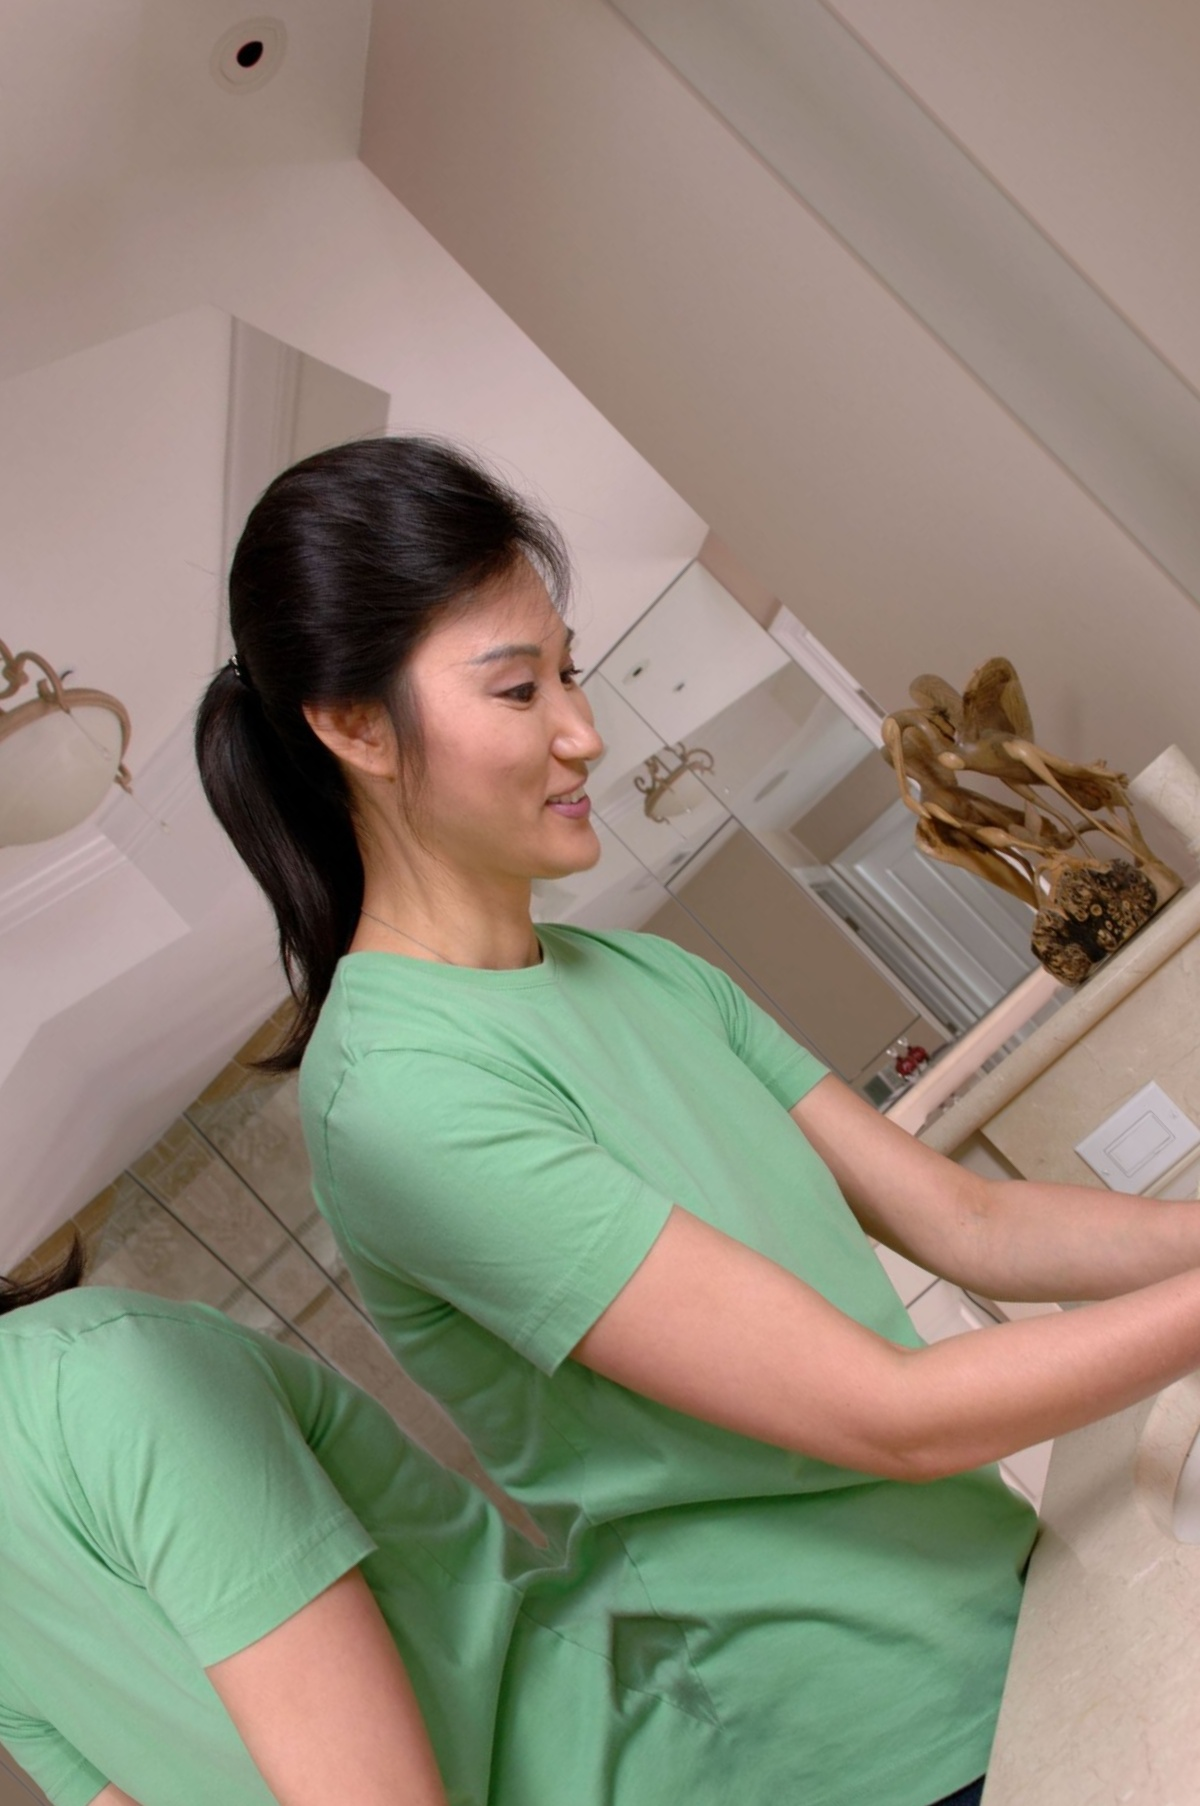washing hand: (1045, 723, 1199, 1423)
